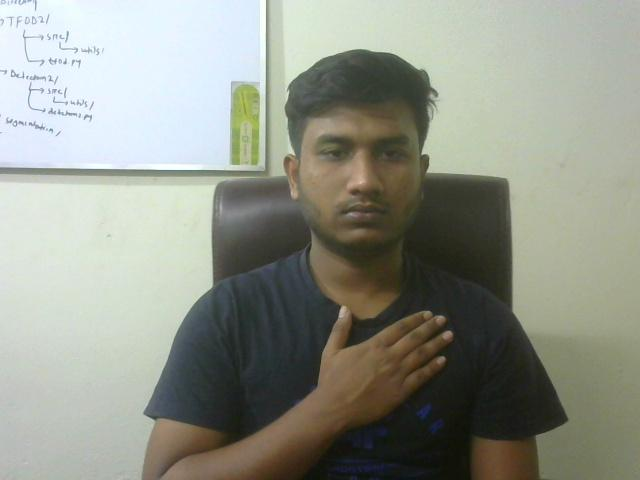Please: (299, 277, 466, 440)
